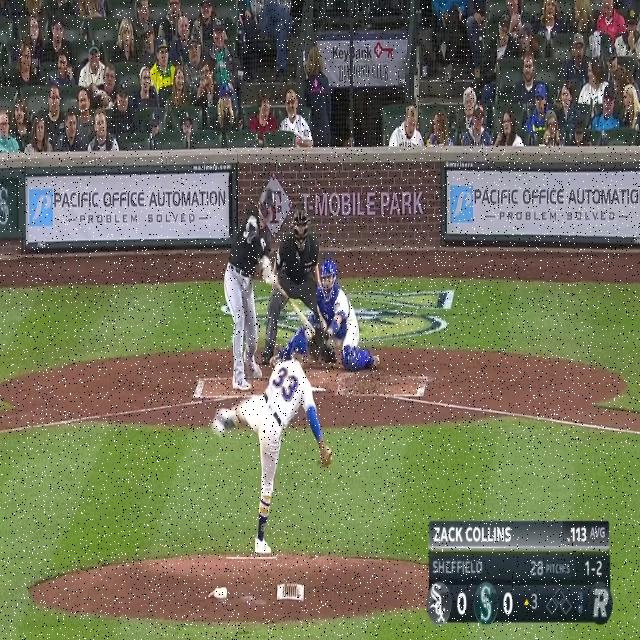baseball: (304, 327, 313, 343)
